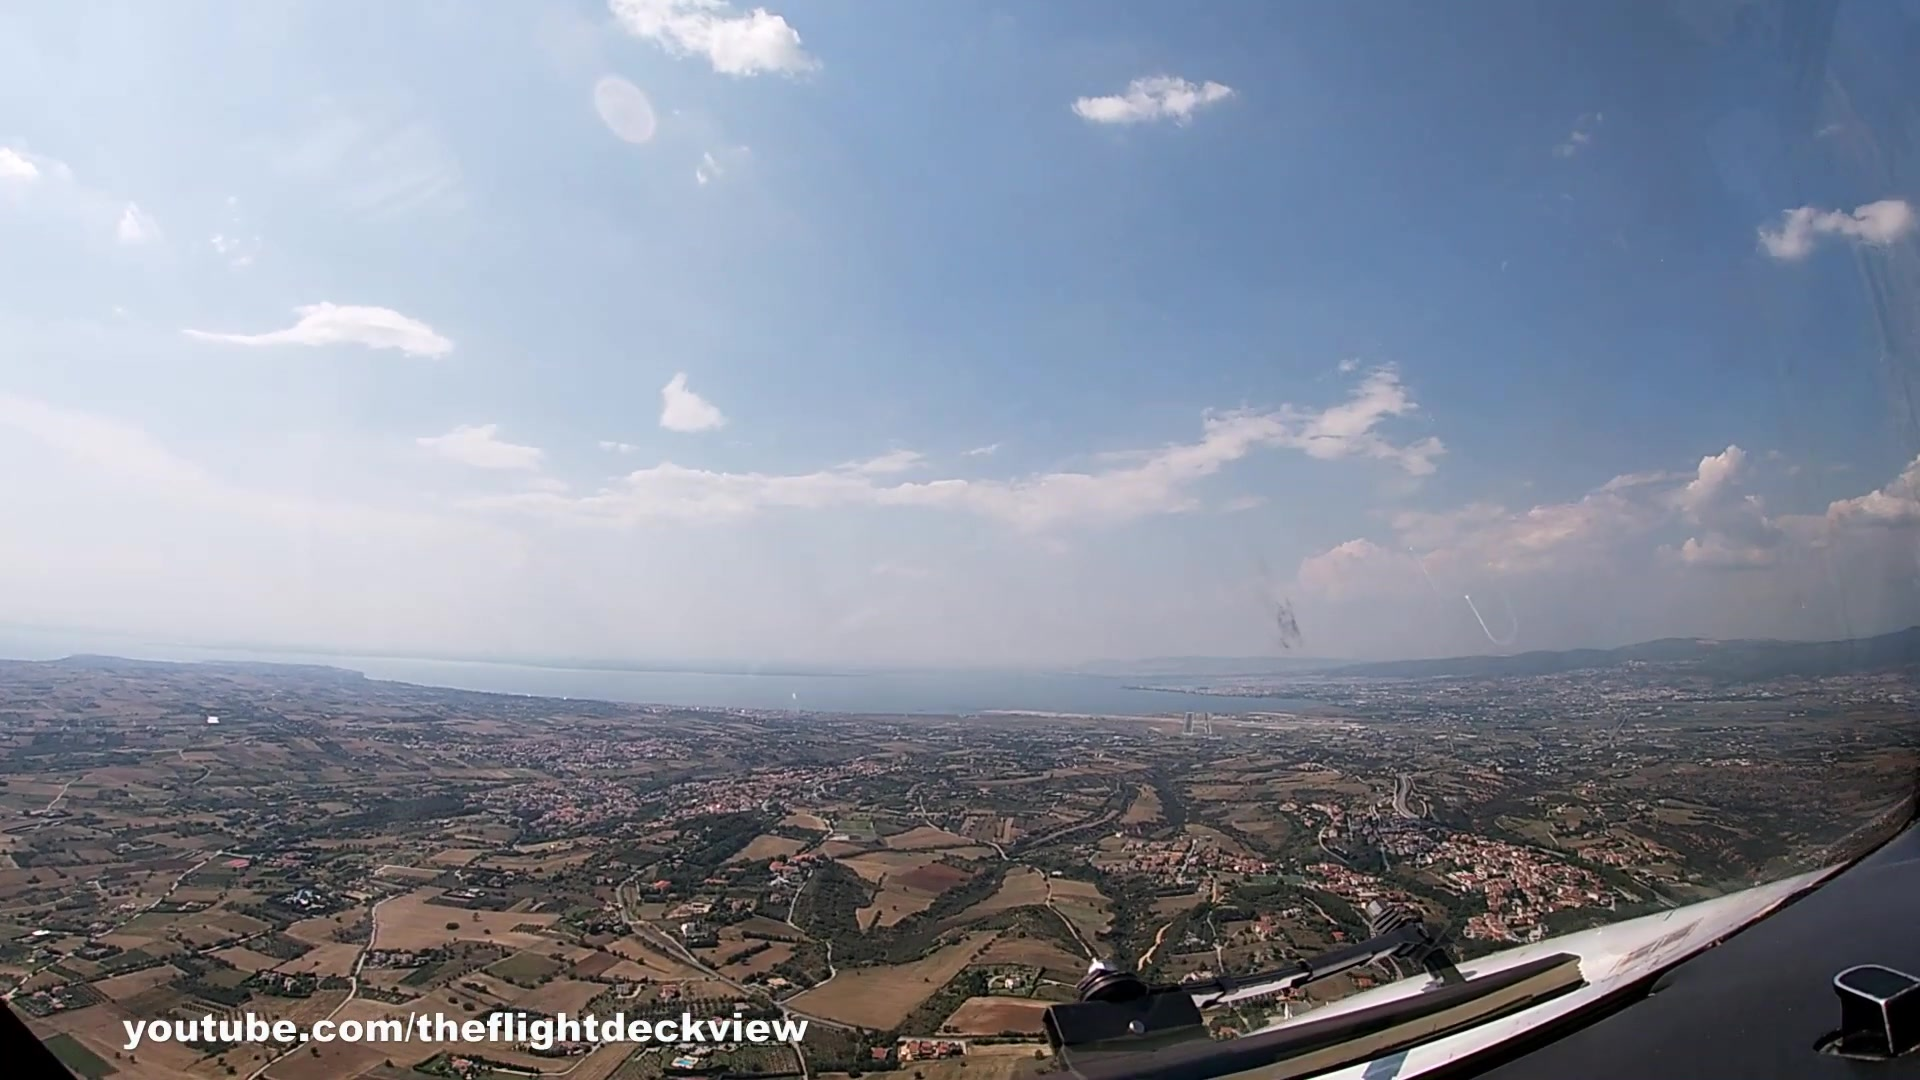runway: (1180, 711, 1196, 736)
